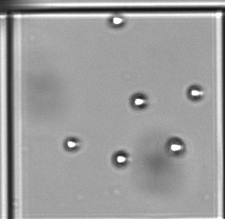Living Cell: (167, 137, 185, 155), (130, 92, 148, 110), (186, 84, 203, 101), (113, 151, 129, 167), (109, 14, 125, 26), (64, 138, 78, 151)
